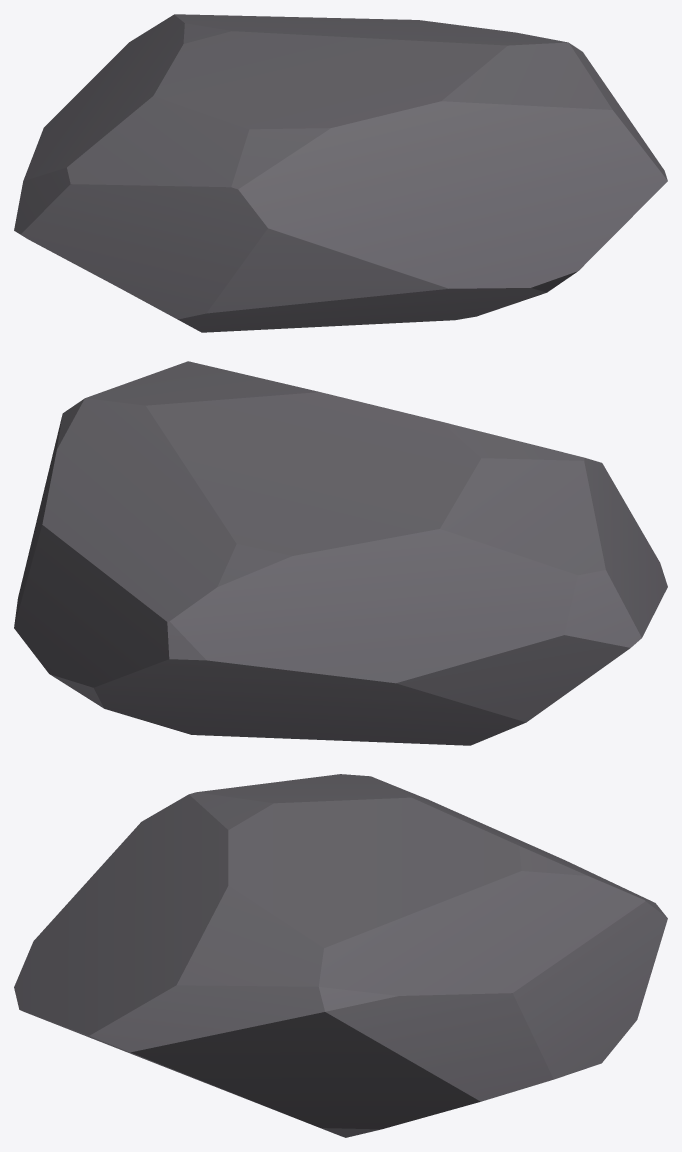
Rendered from Rock_04.fbx.
3 views of the same model, one above another, from view 1: azimuth 30°, elevation 25°; view 2: azimuth 150°, elevation 25°; view 3: azimuth 270°, elevation 25° (orthographic). The views are drawn at different scales.
Parts seen in each view (by area): view 1: Rock_04_LOD0; view 2: Rock_04_LOD0; view 3: Rock_04_LOD0.
Boxes of the visible parts, left/top/right/bottom form: Rock_04_LOD0: left=14, top=14, right=667, bottom=332; Rock_04_LOD0: left=14, top=361, right=667, bottom=745; Rock_04_LOD0: left=14, top=774, right=667, bottom=1137.
Size of what is drawn, in the model's own units: 0.5914 by 0.2296 by 0.5976.
